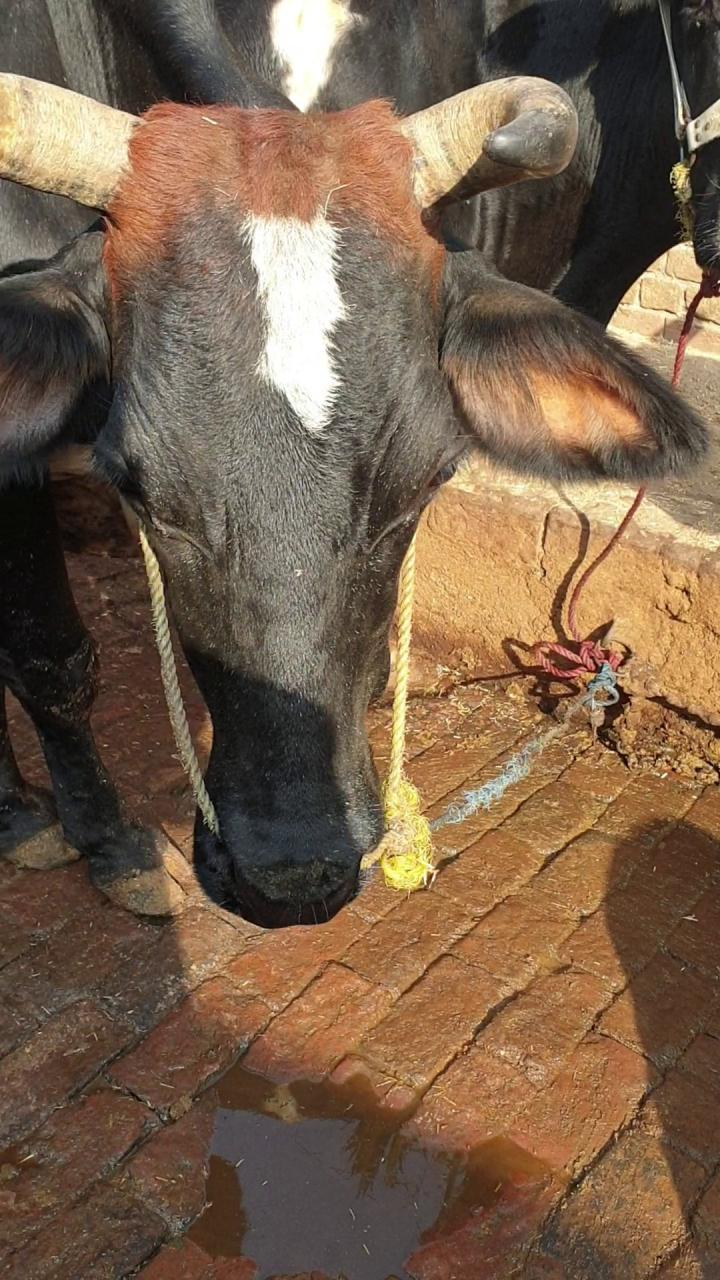cows: (82, 73, 458, 930)
